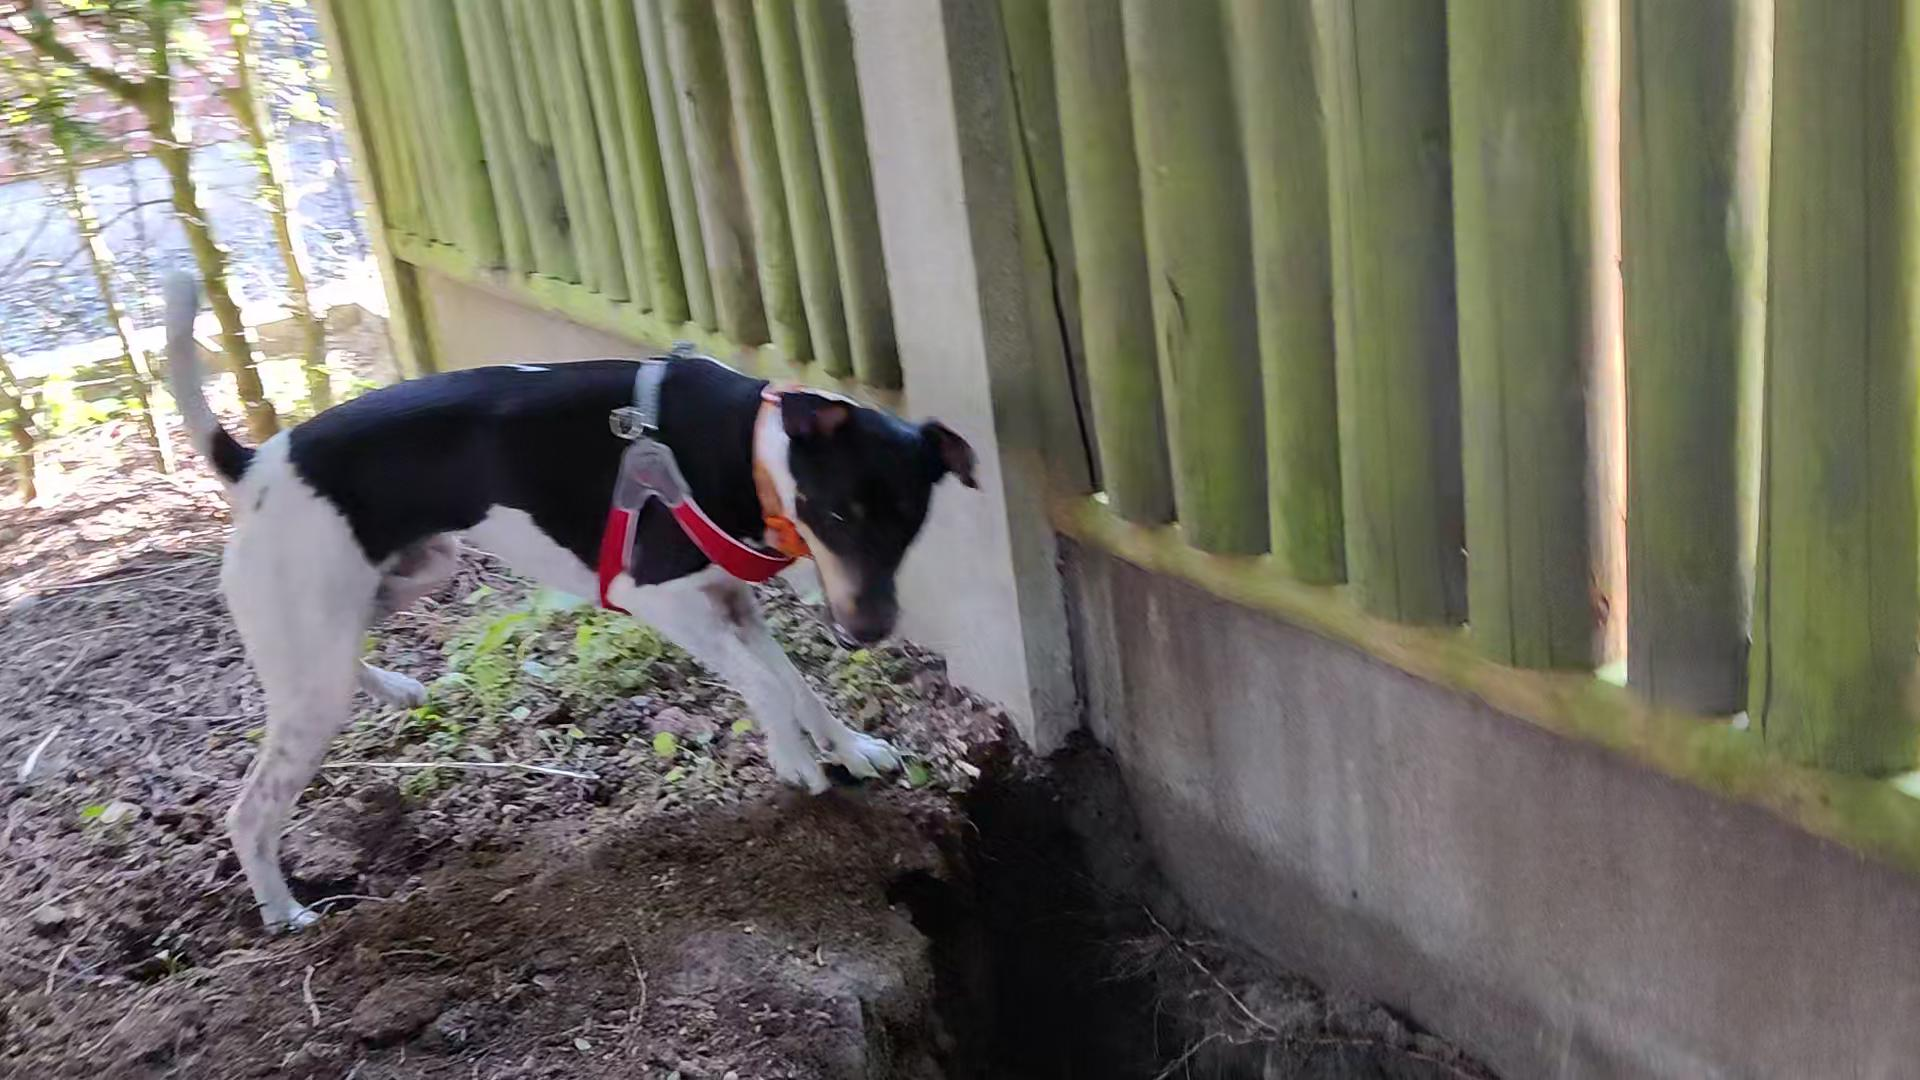Dog: (131, 224, 996, 938)
